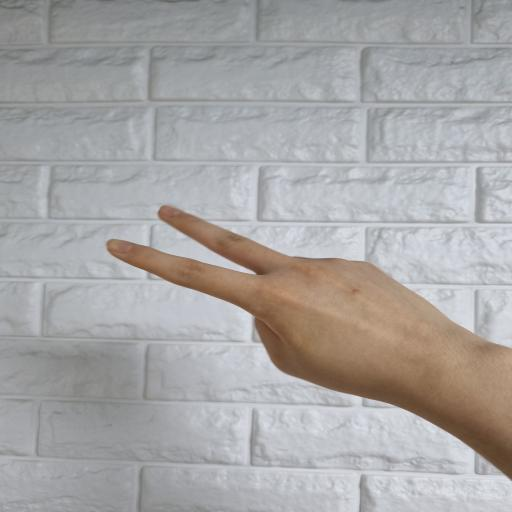Scissors: (106, 204, 512, 482)
